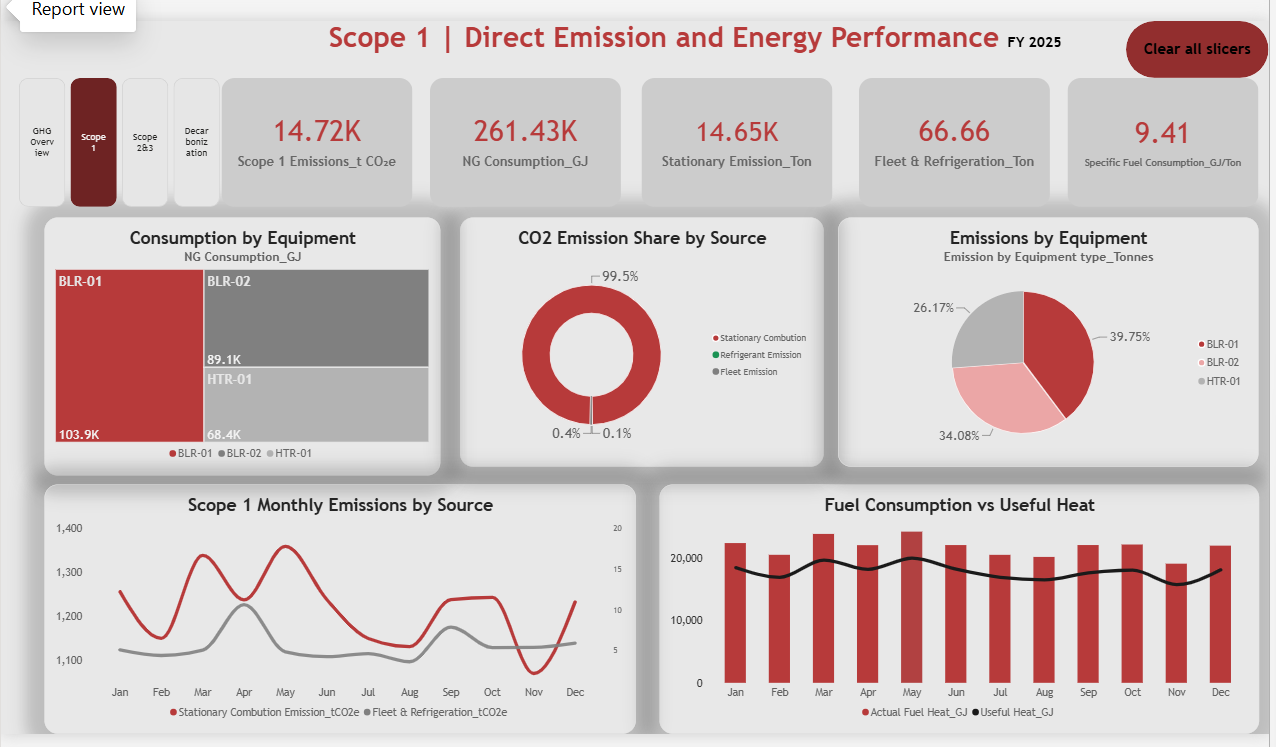

The page's visual inventory and layout, read from the dashboard file:
{"tool":"powerbi","page":{"name":"Scope 1 ","canvas":[1920,1080],"ordinal":1},"visuals":[{"type":"cardVisual","fields":{"Data":["KPI (2).Scope 1 total tonC02e"]},"box":[334.5,85.5,289.6,195.6],"z":0,"group":"g1"},{"type":"donutChart","title":"CO2 Emission Share by Source","fields":{"Y":["Sum(Hourly_Operations.CO2_Hourly Fuel)","Sum(Refrigerants.C02_Leak KgCO2e)","Sum(Fleet_Fuel.CO2_Diesel Kg CO2)"]},"box":[694.2,296.8,550.9,377.3],"z":0},{"type":"cardVisual","fields":{"Data":["KPI (2).NG Consumption GJ"]},"box":[650.8,86.3,289.6,195.6],"z":1000,"group":"g1"},{"type":"lineClusteredColumnComboChart","title":"Fuel Consumption vs Useful Heat","fields":{"Category":["Date Table.Month"],"Y":["Sum(Hourly_Operations.Fuel_GJ)"],"Y2":["Sum(Hourly_Operations.UsefulHeat_GJ)"]},"box":[996.1,701.8,908,377.3],"z":1000},{"type":"cardVisual","fields":{"Data":["KPI (2).Stationary Combution"]},"box":[969.3,85.5,289.6,195.6],"z":2000,"group":"g1"},{"type":"treemap","title":"Consumption by Equipment","fields":{"Group":["Hourly_Operations.EquipmentID"],"Values":["KPI (2).NG Consumption GJ"]},"box":[65.9,297.5,599.6,390.7],"z":2000},{"type":"cardVisual","fields":{"Data":["KPI (2).Fleet & Refrigeration_Tones"]},"box":[1300.7,85.5,289.6,195.6],"z":3000,"group":"g1"},{"type":"lineChart","title":"Scope 1 Monthly Emissions by Source","fields":{"Category":["Date Table.Month"],"Y":["KPI (2).Stationary Combution Emission_ton"],"Y2":["KPI (2).Fleet & Refrigeration Kg divided by MEASURE"]},"box":[65.4,701.8,895.4,377.3],"z":3000},{"type":"cardVisual","fields":{"Data":["KPI (2).Specific Fuel Consumption GJ/ton"]},"box":[1615.3,85.5,289.6,195.6],"z":4000,"group":"g1"},{"type":"pieChart","title":" Emissions by Equipment","fields":{"Category":["Hourly_Operations.EquipmentID"],"Y":["KPI (2).Stationary Combution Emission_ton"]},"box":[1267.7,296.8,636.4,377.3],"z":4000},{"type":"textbox","box":[442.1,0,1203.3,65.3],"z":5000},{"type":"actionButton","box":[1703.5,0,215.8,86.3],"z":6000},{"type":"group","id":"g1","title":"Group 1","box":[334.5,85.5,1569.5,196.2],"z":7000},{"type":"pageNavigator","box":[27.3,86.3,306.6,195.3],"z":8000}]}

Visuals, with their boxes on the page's 1920x1080 design canvas (x1, y1, x2, y2). These are canvas units, not pixel positions in the 1276x747 screenshot, which may show the page scaled, cropped or inside an application window:
cardVisual - KPI (2).Scope 1 total tonC02e: (334, 86, 624, 281)
"CO2 Emission Share by Source" donutChart: (694, 297, 1245, 674)
cardVisual - KPI (2).NG Consumption GJ: (651, 86, 940, 282)
"Fuel Consumption vs Useful Heat" lineClusteredColumnComboChart: (996, 702, 1904, 1079)
cardVisual - KPI (2).Stationary Combution: (969, 86, 1259, 281)
"Consumption by Equipment" treemap: (66, 298, 666, 688)
cardVisual - KPI (2).Fleet & Refrigeration_Tones: (1301, 86, 1590, 281)
"Scope 1 Monthly Emissions by Source" lineChart: (65, 702, 961, 1079)
cardVisual - KPI (2).Specific Fuel Consumption GJ/ton: (1615, 86, 1905, 281)
" Emissions by Equipment" pieChart: (1268, 297, 1904, 674)
textbox: (442, 0, 1645, 65)
actionButton: (1704, 0, 1919, 86)
"Group 1" group: (334, 86, 1904, 282)
pageNavigator: (27, 86, 334, 282)
